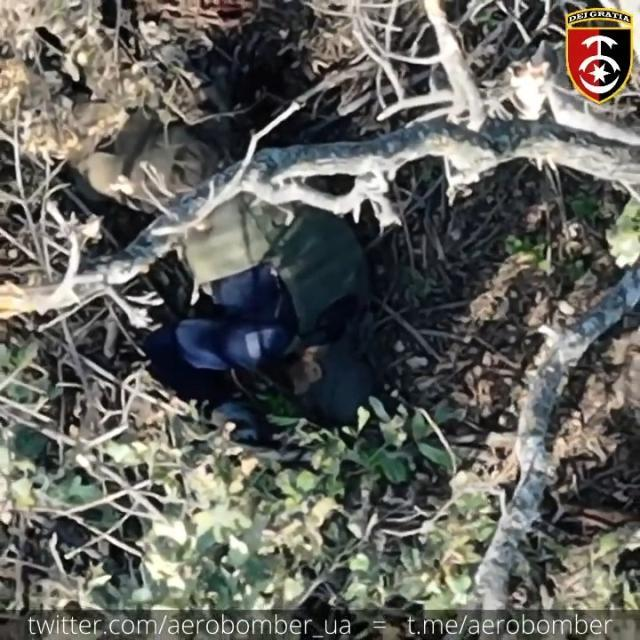MIL_Pax: (75, 111, 374, 443)
